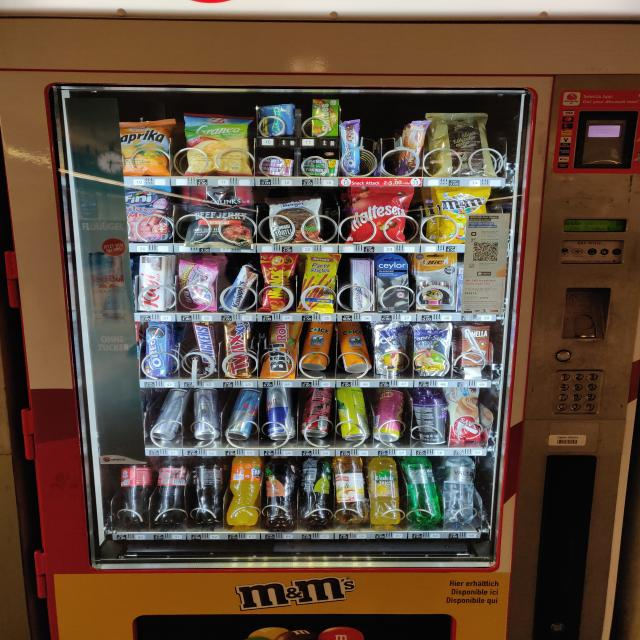7days_croissantschoko_packung_80_1_0000000000003: (443, 384, 488, 442)
airwaves_menthoneucalyptus_riegel_14_1_50173167: (260, 101, 296, 137)
bifi_roll__50__4251097402635: (259, 322, 301, 378)
c-swiss_dosenabisicetea__33__9120025930135: (303, 320, 336, 372), (342, 320, 368, 374)
caferoyal_classicmacchiato__33__7617014164487: (413, 395, 450, 447)
caprisun_multivitamin__20__4000177605004: (409, 322, 454, 378), (371, 322, 410, 384)
coke__dose_33__54491472: (301, 385, 334, 439)
coke__flasche_50__54491472: (111, 458, 153, 528), (153, 458, 191, 527)
coke_zero_flasche_50__5449000131836: (193, 459, 230, 526)
comella_schokodrink__33__7613100037253: (456, 325, 496, 369)
fanta___50__40822938: (223, 456, 267, 527)
fini_galaxymix_packung_100_1_8410525150364: (123, 186, 173, 244)
fini_jellykisses_packung_80_1_8410525116704: (176, 258, 221, 314)
fuse_lemon__50__5449000235947: (294, 455, 334, 526)
fuse_lemon_dose_33__5449000235947: (337, 388, 370, 443)
fuse_peach__50__5449000236623: (262, 458, 301, 532)
jacklinks_beefjerkyorginal__25__4047751730219: (182, 185, 258, 251)
jlbrichard_gauffrechoko__90__5410495002079: (426, 110, 491, 179)
kagi___50__7610046000259: (140, 251, 169, 311)
knoppers_riegel____4035800488808: (226, 266, 259, 312)
lorenz_nicnacs__40__4018077798818: (254, 251, 299, 314)
malburner_partysticks__40__7610200279682: (301, 255, 339, 312)
maltesers___100__5000159023061: (347, 184, 419, 245)
mnms_gelb__45__40111445: (433, 184, 498, 244)
oreo___66__84100733: (144, 324, 174, 381)
ramseier_schorle__50__7610057012456: (332, 457, 368, 527)
redbull___33__90162909: (151, 386, 192, 439), (266, 383, 299, 441), (192, 386, 224, 442)
redbull_light__33__90162800: (222, 390, 264, 440)
skittles_sour_riegel_51_1_0000000000004: (310, 98, 343, 137)
snickers___50__5000159461122: (196, 322, 220, 379)
stimorol_spearmint_riegel_14_1_0000000000005: (305, 158, 339, 174)
stimorol_wildcherry_riegel_14_1_57060330: (260, 155, 296, 176)
tiki_himbeer_brause__50__00000000009342: (374, 388, 407, 445)
twix___50__5000159459228: (219, 322, 253, 377)
valser_still__50__7610335002575: (442, 454, 480, 523)
volvic_pinapple__50__305764335648: (405, 457, 445, 526), (370, 455, 403, 526)
zweifel_graneochilli__100__7610095184009: (178, 113, 256, 177)
zweifel_paprika__90__7610095013002: (115, 117, 176, 176)
